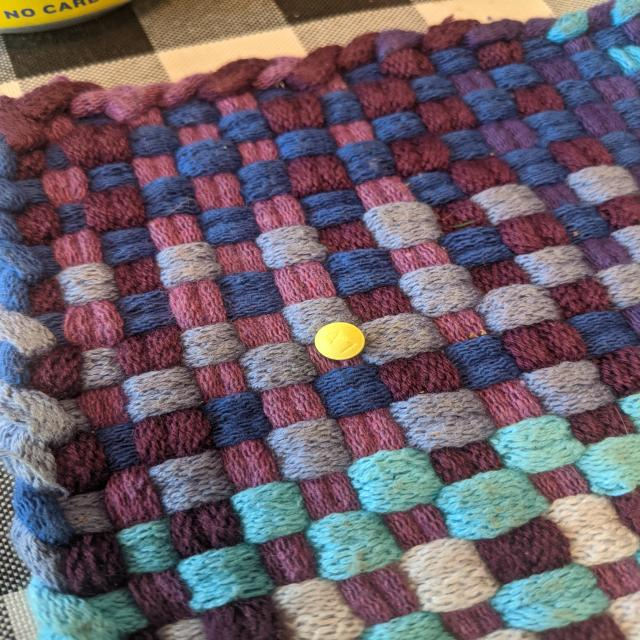non-organic waste: (314, 322, 366, 361)
